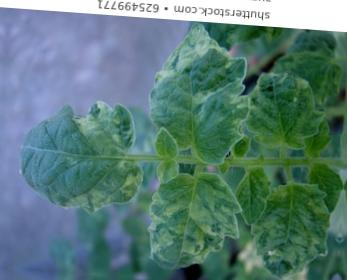Tomato leaf mosaic virus: (11, 94, 147, 219), (147, 23, 261, 167), (142, 167, 246, 277), (247, 170, 337, 279), (239, 66, 327, 158)
